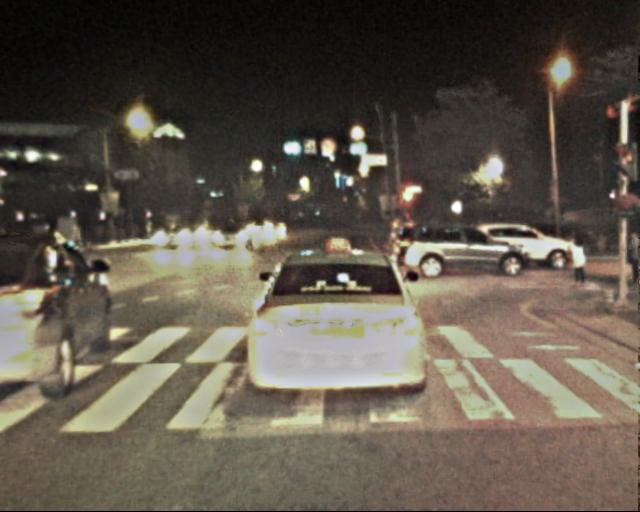person: (566, 228, 592, 289), (622, 230, 640, 286)
